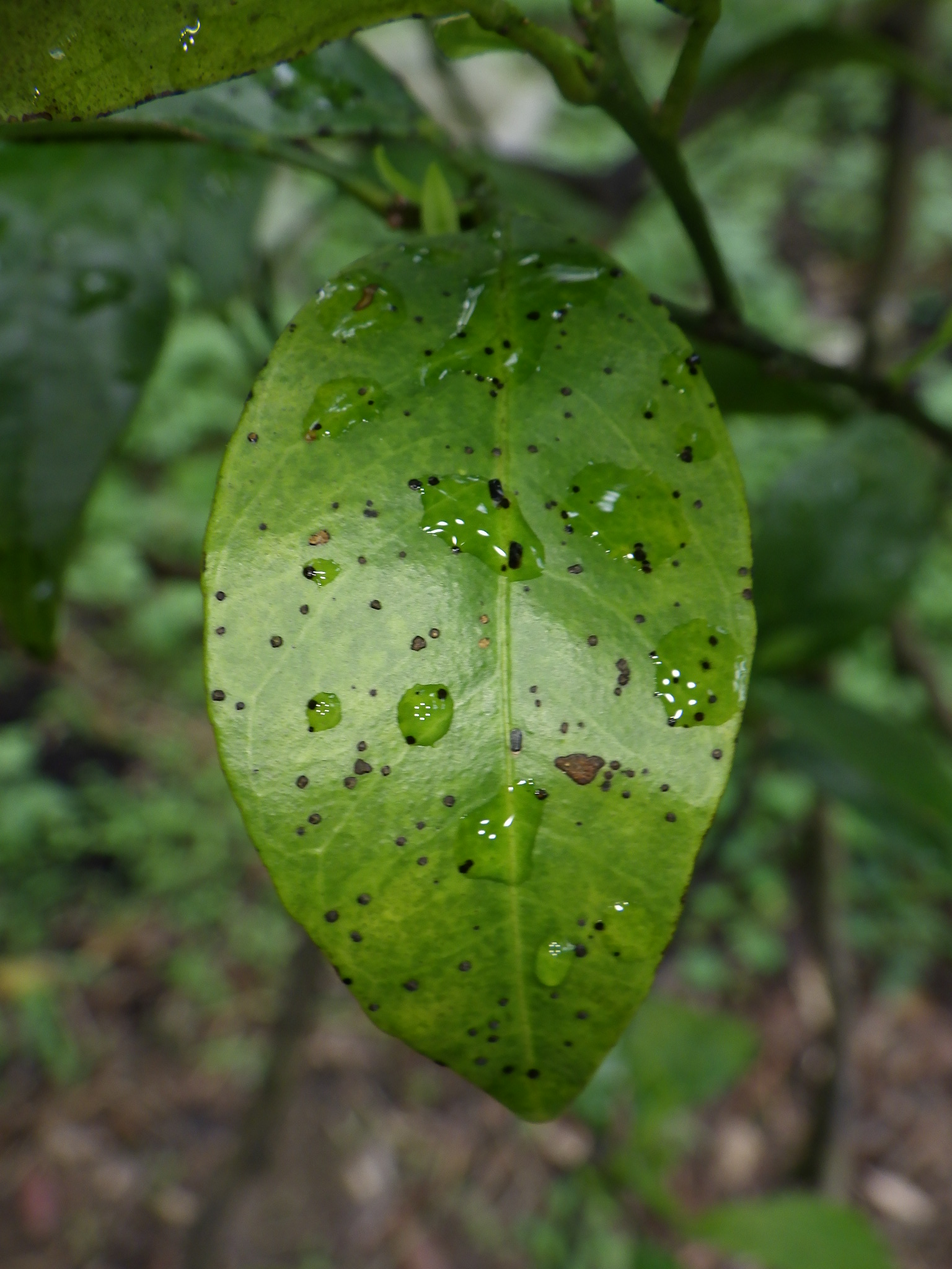Oily_Spot: (202, 217, 759, 1119)
